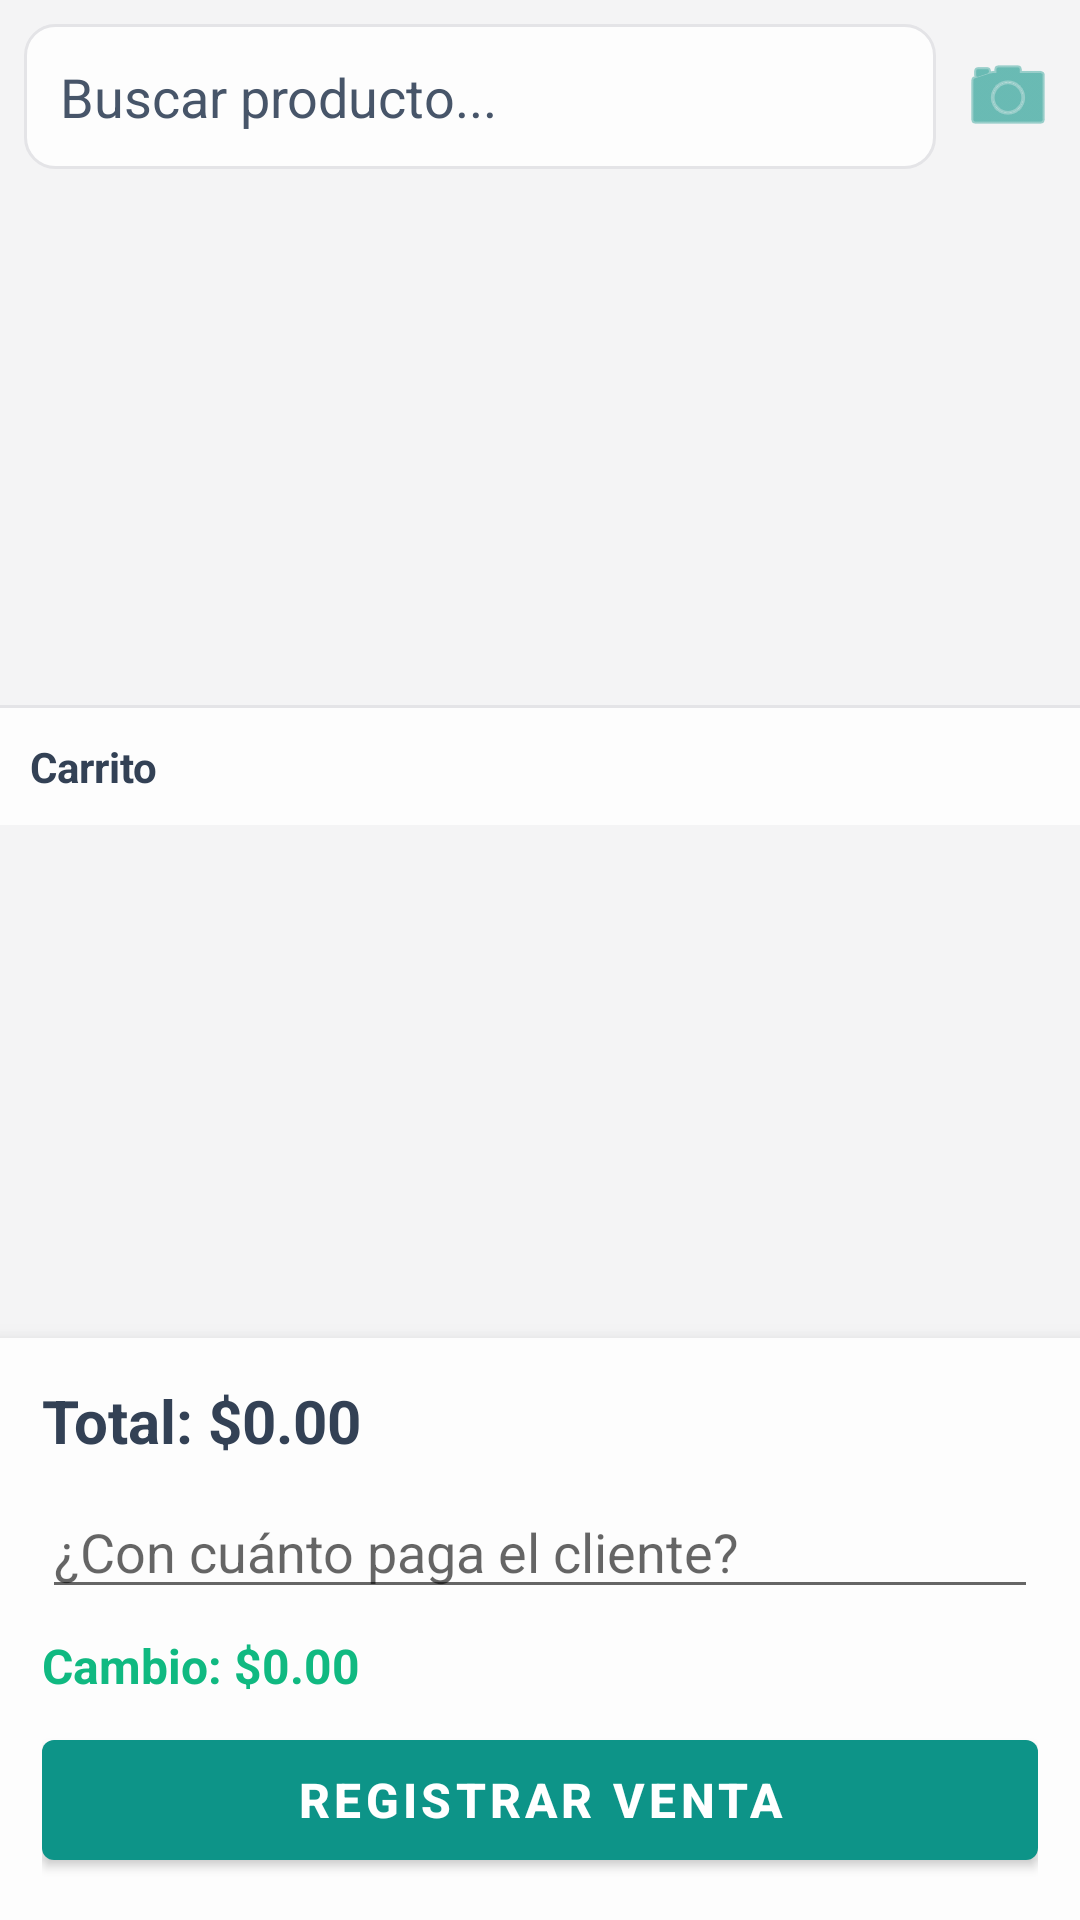

Where icons sit on this 1080*1920 app screen, as (x1, y1, x2, y2):
Escanear codigo de barras: (971, 65, 1045, 124)
